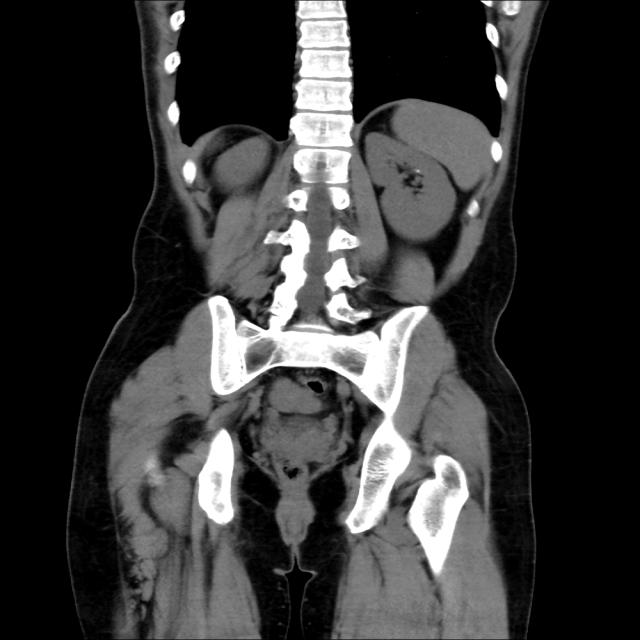kidneystone: (413, 169, 420, 172)
